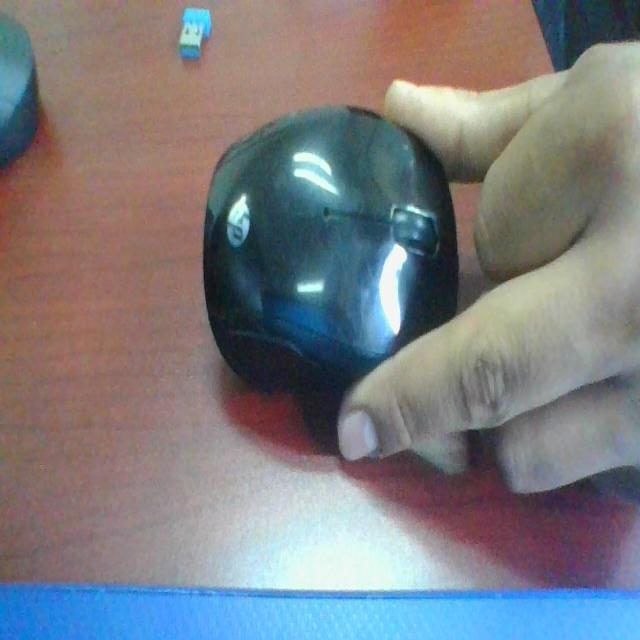Mouse: (202, 105, 461, 399)
